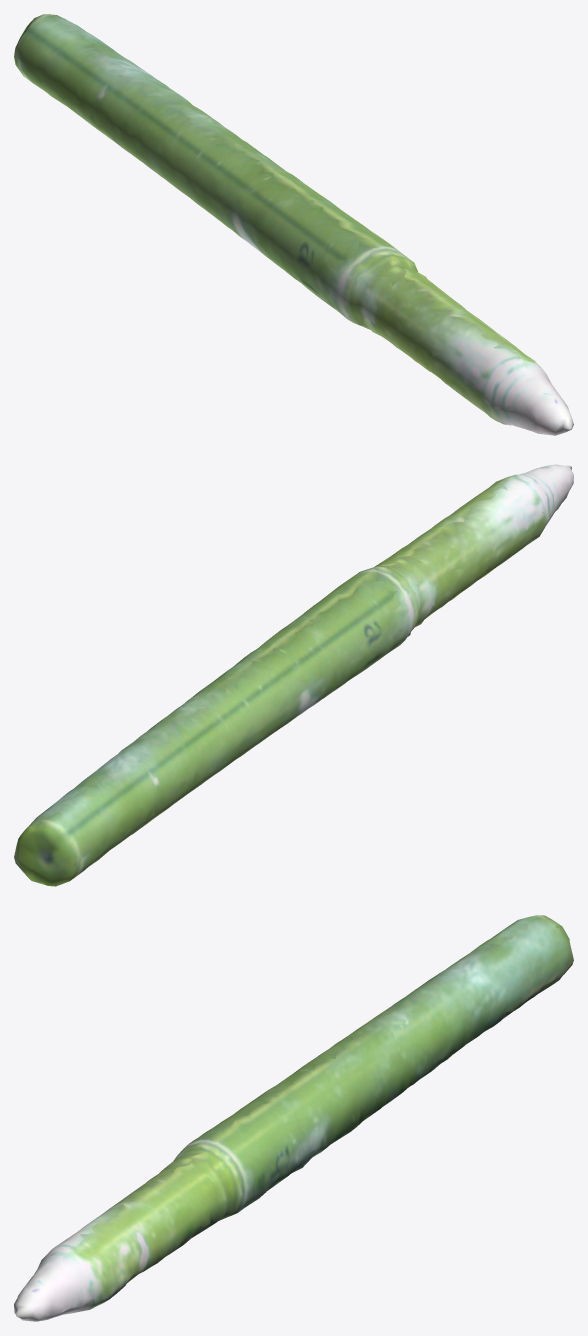
Rendered from scan_align.obj.
3 views of the same model, one above another, from view 1: azimuth 30°, elevation 25°; view 2: azimuth 150°, elevation 25°; view 3: azimuth 330°, elevation 25° (orthographic). The views are drawn at different scales.
Size of the model in its own units: 0.0107 by 0.0109 by 0.1352.
Materials: 1 (1 with a texture image).
